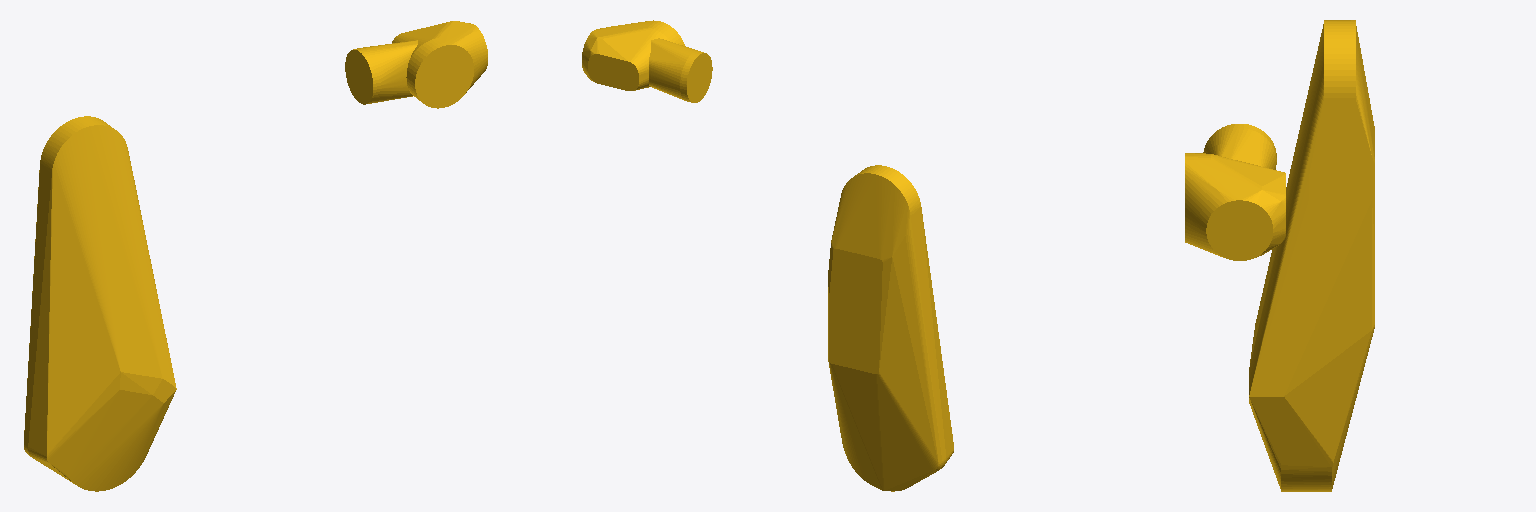
The robot description file, URDF, robot "fanuc_r2000ic165f":
<?xml version="1.0" ?>
<!-- =================================================================================== -->
<!-- |    This document was autogenerated by xacro from urdf/r2000ic165f.xacro         | -->
<!-- |    EDITING THIS FILE BY HAND IS NOT RECOMMENDED                                 | -->
<!-- =================================================================================== -->
<robot name="fanuc_r2000ic165f">
  <!-- links: main serial chain -->
  <link name="base_link">
    <visual>
      <origin rpy="0 0 0" xyz="0 0 0"/>
      <geometry>
        <mesh filename="package://fanuc_r2000ic_support/meshes/r2000ic165f/visual/base_link.stl"/>
      </geometry>
      <material name="">
        <color rgba="0.4 0.4 0.4 1.0"/>
      </material>
    </visual>
    <collision>
      <origin rpy="0 0 0" xyz="0 0 0"/>
      <geometry>
        <mesh filename="package://fanuc_r2000ic_support/meshes/r2000ic165f/collision/base_link.stl"/>
      </geometry>
    </collision>
  </link>
  <link name="link_1">
    <visual>
      <origin rpy="0 0 0" xyz="0 0 0"/>
      <geometry>
        <mesh filename="package://fanuc_r2000ic_support/meshes/r2000ic165f/visual/link_1.stl"/>
      </geometry>
      <material name="">
        <color rgba="0.96 0.76 0.13 1.0"/>
      </material>
    </visual>
    <collision>
      <origin rpy="0 0 0" xyz="0 0 0"/>
      <geometry>
        <mesh filename="package://fanuc_r2000ic_support/meshes/r2000ic165f/collision/link_1.stl"/>
      </geometry>
    </collision>
  </link>
  <link name="link_2">
    <visual>
      <origin rpy="0 0 0" xyz="0 0 0"/>
      <geometry>
        <mesh filename="package://fanuc_r2000ic_support/meshes/r2000ic165f/visual/link_2.stl"/>
      </geometry>
      <material name="">
        <color rgba="0.96 0.76 0.13 1.0"/>
      </material>
    </visual>
    <collision>
      <origin rpy="0 0 0" xyz="0 0 0"/>
      <geometry>
        <mesh filename="package://fanuc_r2000ic_support/meshes/r2000ic165f/collision/link_2.stl"/>
      </geometry>
    </collision>
  </link>
  <link name="link_3">
    <visual>
      <origin rpy="0 0 0" xyz="0 0 0"/>
      <geometry>
        <mesh filename="package://fanuc_r2000ic_support/meshes/r2000ic165f/visual/link_3.stl"/>
      </geometry>
      <material name="">
        <color rgba="0.96 0.76 0.13 1.0"/>
      </material>
    </visual>
    <collision>
      <origin rpy="0 0 0" xyz="0 0 0"/>
      <geometry>
        <mesh filename="package://fanuc_r2000ic_support/meshes/r2000ic165f/collision/link_3.stl"/>
      </geometry>
    </collision>
  </link>
  <link name="link_4">
    <visual>
      <origin rpy="0 0 0" xyz="0 0 0"/>
      <geometry>
        <mesh filename="package://fanuc_r2000ic_support/meshes/r2000ic165f/visual/link_4.stl"/>
      </geometry>
      <material name="">
        <color rgba="0.96 0.76 0.13 1.0"/>
      </material>
    </visual>
    <collision>
      <origin rpy="0 0 0" xyz="0 0 0"/>
      <geometry>
        <mesh filename="package://fanuc_r2000ic_support/meshes/r2000ic165f/collision/link_4.stl"/>
      </geometry>
    </collision>
  </link>
  <link name="link_5">
    <visual>
      <origin rpy="0 0 0" xyz="0 0 0"/>
      <geometry>
        <mesh filename="package://fanuc_r2000ic_support/meshes/r2000ic165f/visual/link_5.stl"/>
      </geometry>
      <material name="">
        <color rgba="0.96 0.76 0.13 1.0"/>
      </material>
    </visual>
    <collision>
      <origin rpy="0 0 0" xyz="0 0 0"/>
      <geometry>
        <mesh filename="package://fanuc_r2000ic_support/meshes/r2000ic165f/collision/link_5.stl"/>
      </geometry>
    </collision>
  </link>
  <link name="link_6">
    <visual>
      <origin rpy="0 0 0" xyz="0 0 0"/>
      <geometry>
        <mesh filename="package://fanuc_r2000ic_support/meshes/r2000ic165f/visual/link_6.stl"/>
      </geometry>
      <material name="">
        <color rgba="0.15 0.15 0.15 1.0"/>
      </material>
    </visual>
    <collision>
      <origin rpy="0 0 0" xyz="0 0 0"/>
      <geometry>
        <mesh filename="package://fanuc_r2000ic_support/meshes/r2000ic165f/collision/link_6.stl"/>
      </geometry>
    </collision>
  </link>
  <!-- joints: main serial chain -->
  <joint name="joint_1" type="revolute">
    <origin rpy="0 0 0" xyz="0 0 0.670"/>
    <parent link="base_link"/>
    <child link="link_1"/>
    <axis xyz="0 0 1"/>
    <limit effort="0" lower="-3.2288591161895095" upper="3.2288591161895095" velocity="2.2689280275926285"/>
  </joint>
  <joint name="joint_2" type="revolute">
    <origin rpy="0 0 0" xyz="0.312 0 0"/>
    <parent link="link_1"/>
    <child link="link_2"/>
    <axis xyz="0 1 0"/>
    <limit effort="0" lower="-1.0471975511965976" upper="1.3264502315156905" velocity="2.007128639793479"/>
  </joint>
  <joint name="joint_3" type="revolute">
    <origin rpy="0 0 0" xyz="0 0 1.075"/>
    <parent link="link_2"/>
    <child link="link_3"/>
    <axis xyz="0 -1 0"/>
    <limit effort="0" lower="-2.303834612632515" upper="3.141592653589793" velocity="2.181661564992912"/>
  </joint>
  <joint name="joint_4" type="revolute">
    <origin rpy="0 0 0" xyz="0 0 0.225"/>
    <parent link="link_3"/>
    <child link="link_4"/>
    <axis xyz="-1 0 0"/>
    <limit effort="0" lower="-6.283185307179586" upper="6.283185307179586" velocity="3.141592653589793"/>
  </joint>
  <joint name="joint_5" type="revolute">
    <origin rpy="0 0 0" xyz="1.280 0 0"/>
    <parent link="link_4"/>
    <child link="link_5"/>
    <axis xyz="0 -1 0"/>
    <limit effort="0" lower="-2.181661564992912" upper="2.181661564992912" velocity="3.141592653589793"/>
  </joint>
  <joint name="joint_6" type="revolute">
    <origin rpy="0 0 0" xyz="0.215 0 0"/>
    <parent link="link_5"/>
    <child link="link_6"/>
    <axis xyz="-1 0 0"/>
    <limit effort="0" lower="-6.283185307179586" upper="6.283185307179586" velocity="4.537856055185257"/>
  </joint>
  <!-- ROS-Industrial 'base' frame: base_link to Fanuc World Coordinates transform -->
  <link name="base"/>
  <joint name="base_link-base" type="fixed">
    <origin rpy="0 0 0" xyz="0 0 0.670"/>
    <parent link="base_link"/>
    <child link="base"/>
  </joint>
  <!-- ROS-Industrial 'flange' frame: attachment point for EEF models -->
  <link name="flange"/>
  <joint name="joint_6-flange" type="fixed">
    <origin rpy="0 0 0" xyz="0 0 0"/>
    <parent link="link_6"/>
    <child link="flange"/>
  </joint>
  <!-- ROS-Industrial 'tool0' frame: all-zeros tool frame -->
  <link name="tool0"/>
  <joint name="link_6-tool0" type="fixed">
    <origin rpy="3.141592653589793 -1.5707963267948966 0" xyz="0 0 0"/>
    <parent link="link_6"/>
    <child link="tool0"/>
  </joint>
</robot>

--- What the picture shows (computed from the rendered views, not written in the file) ---
Views: 3 orthographic renders of the robot side by side, from view 1: azimuth 30°, elevation 25°; view 2: azimuth 150°, elevation 25°; view 3: azimuth 270°, elevation 25°.
Model fanuc_r2000ic165f with 10 links and 9 joints (6 revolute, 3 fixed), rooted at base_link, posed every joint at zero.
Visible links, largest first — view 1: link_2, link_5, link_4; view 2: link_2, link_5, link_4; view 3: link_2, link_5, link_4.
Link boxes in pixels (x1=…): link_2: x1=24, y1=116, x2=176, y2=491; link_5: x1=392, y1=21, x2=487, y2=108; link_4: x1=345, y1=40, x2=417, y2=104; link_2: x1=828, y1=165, x2=953, y2=491; link_5: x1=582, y1=20, x2=684, y2=90; link_4: x1=649, y1=38, x2=712, y2=102; link_2: x1=1249, y1=20, x2=1374, y2=491; link_5: x1=1185, y1=153, x2=1285, y2=260; link_4: x1=1203, y1=124, x2=1276, y2=169.
Bounding box of the posed robot: 1.77 × 0.5355 × 1.62 m (x, y, z).
Meshes: 7 distinct files referenced, 3 mesh visuals loaded (3 binary STL); not drawn: 4 (reference not matched to a file when rendering).